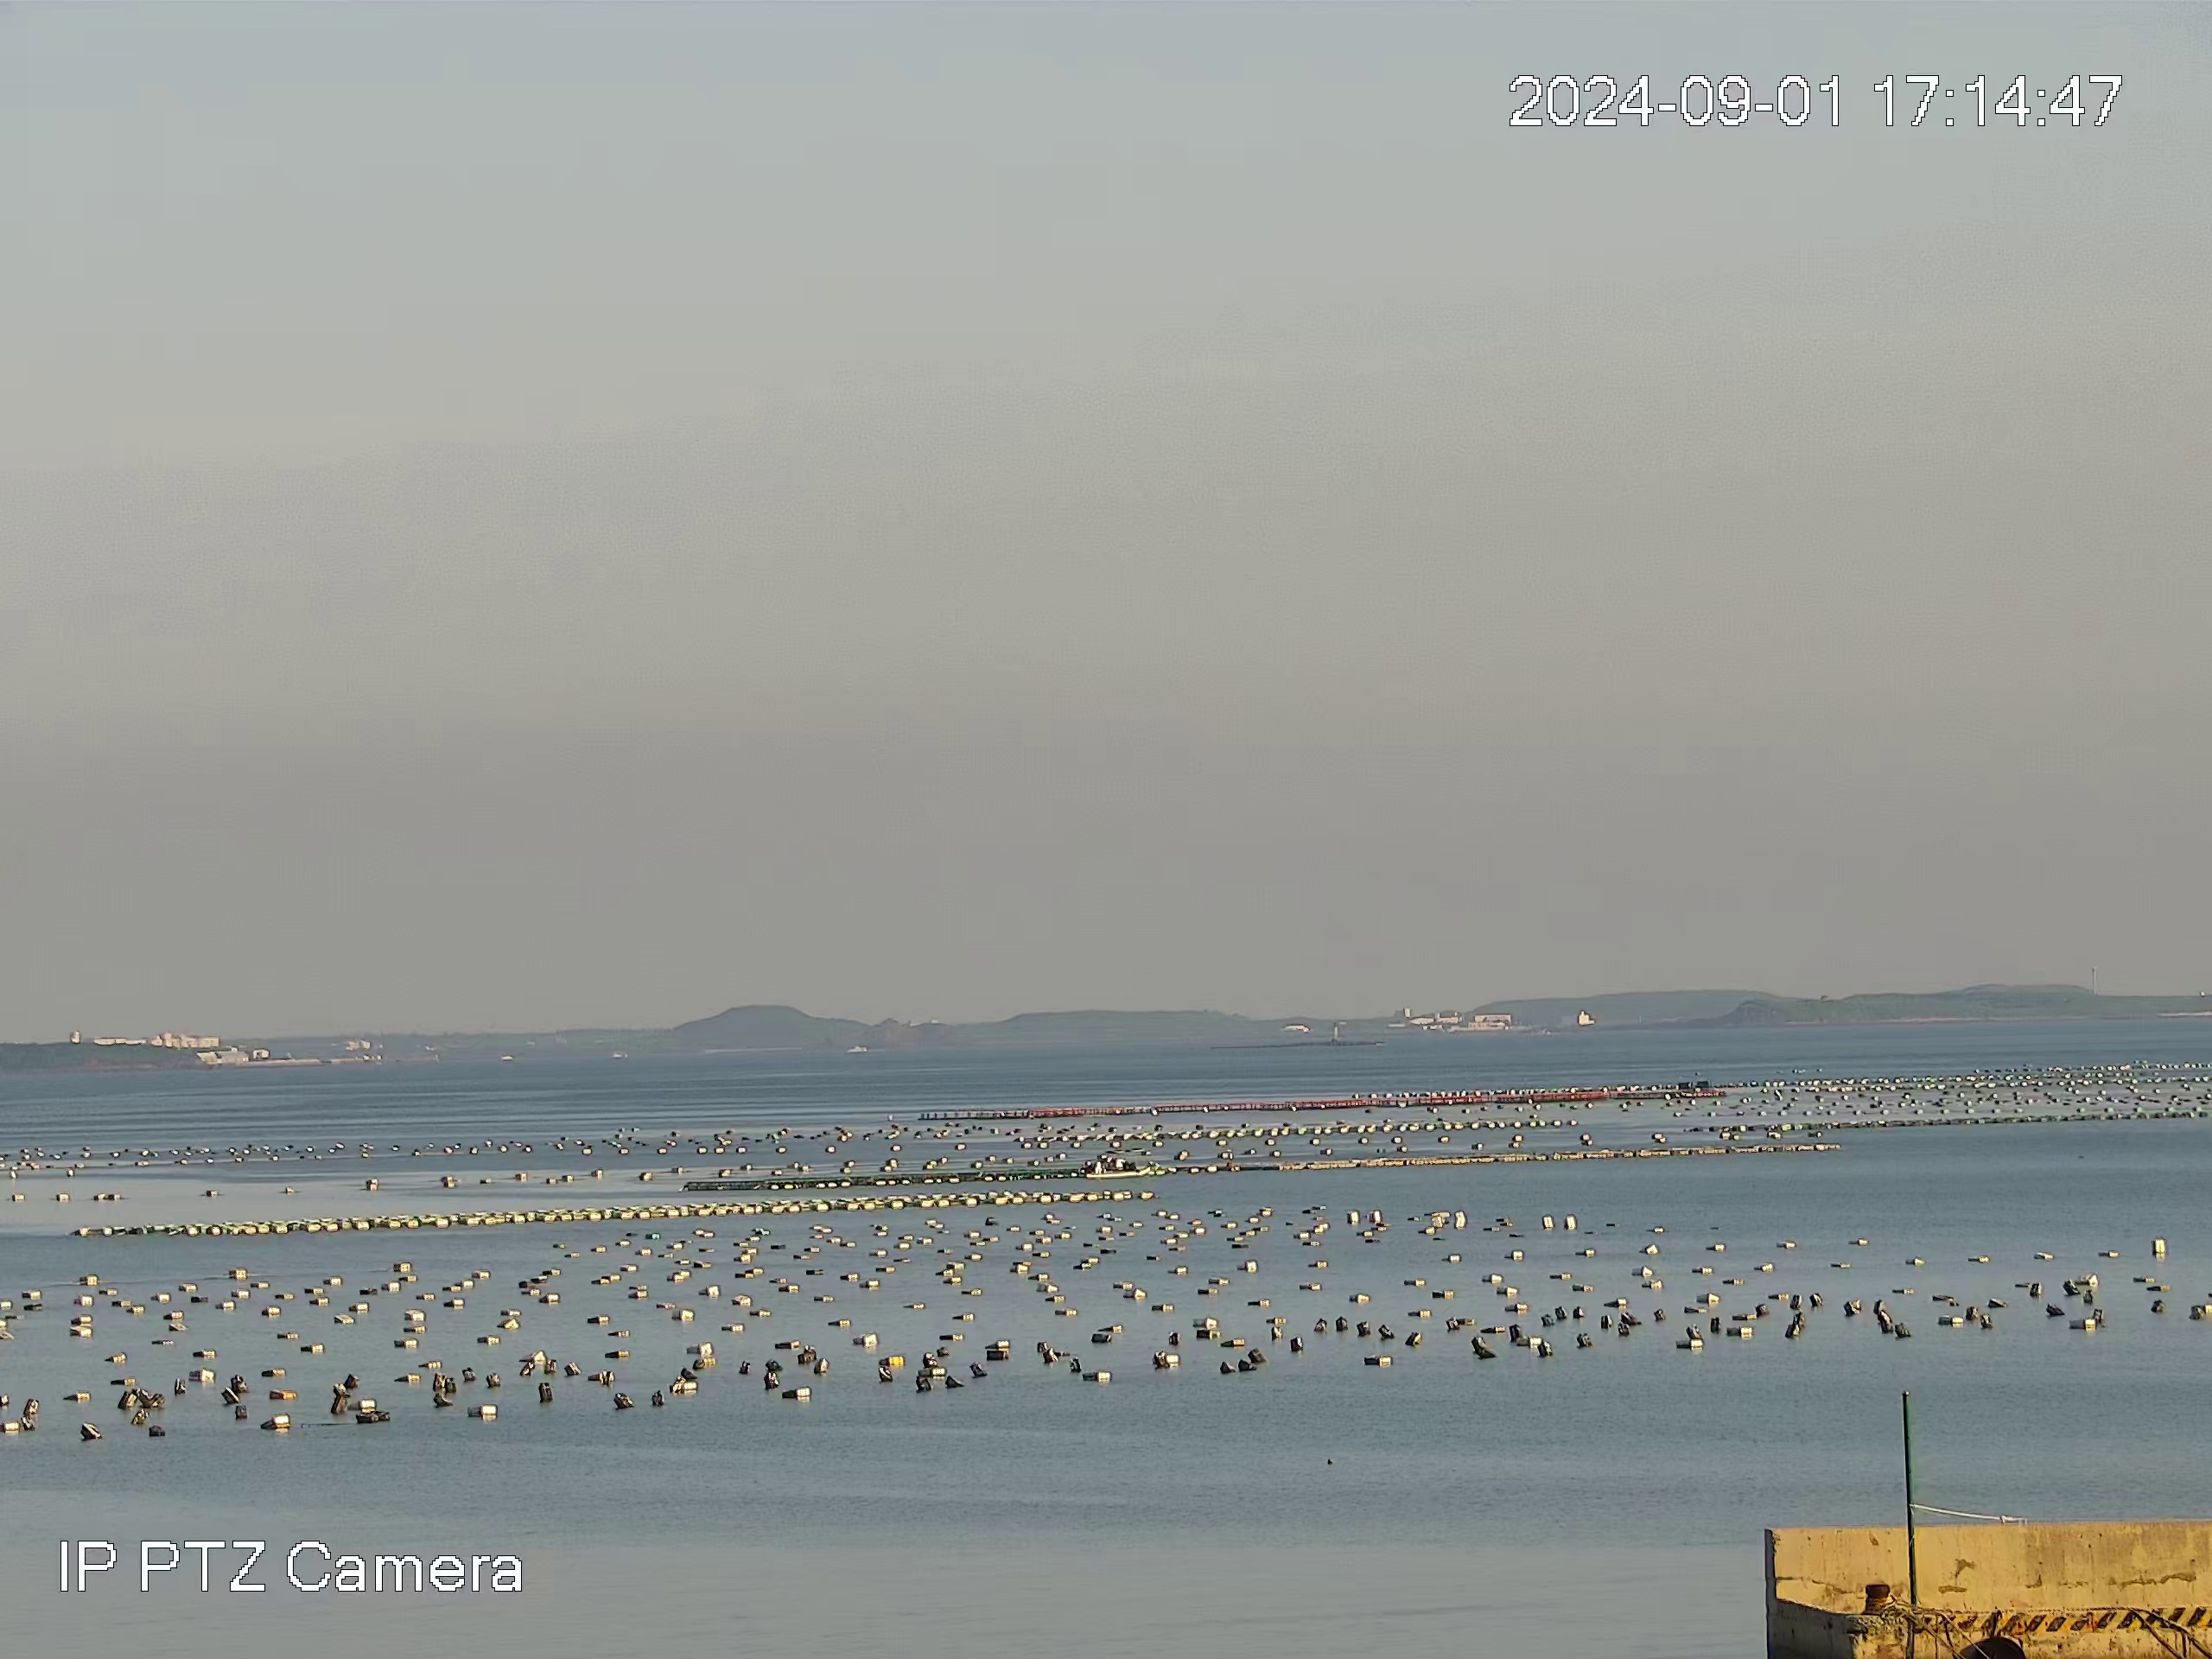boat: (1089, 1150, 1155, 1178)
